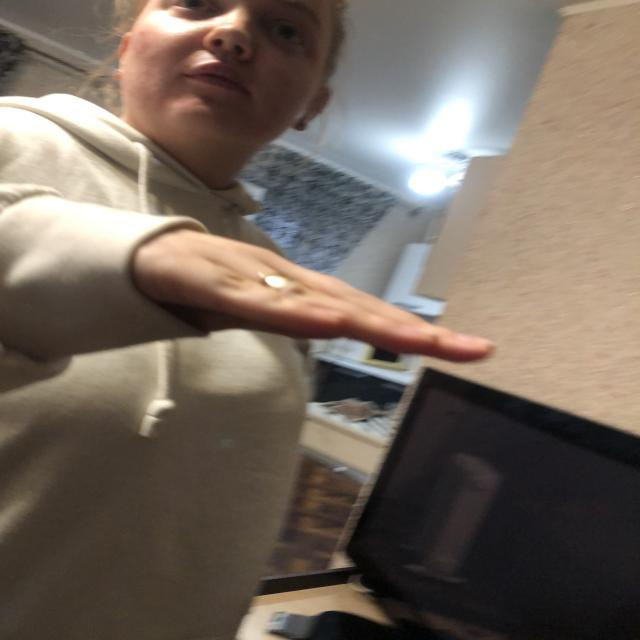paper: (165, 224, 494, 364)
